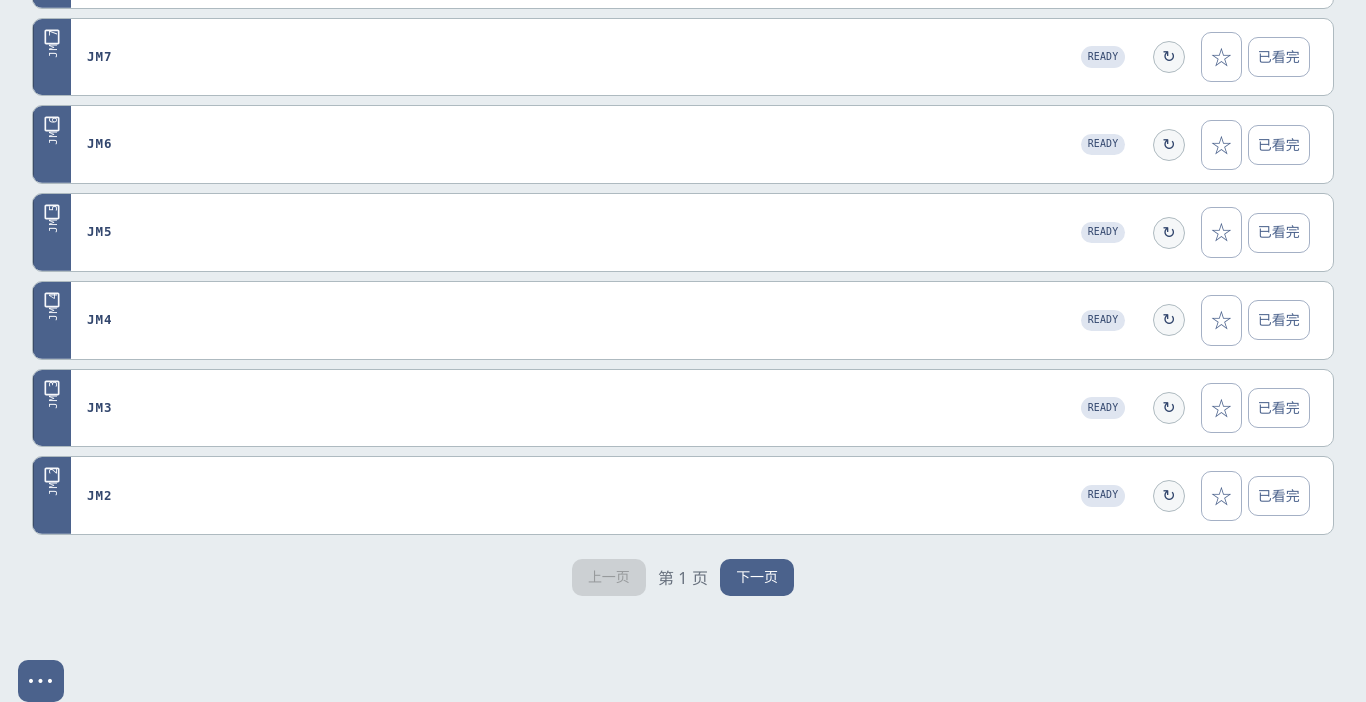
personal status and floating menu › returns to the last valid page and resets pagination when changing filters
(page scrolled)
Click the button "下一页" at (757, 578), box [720,559,794,596]
(page scrolled)
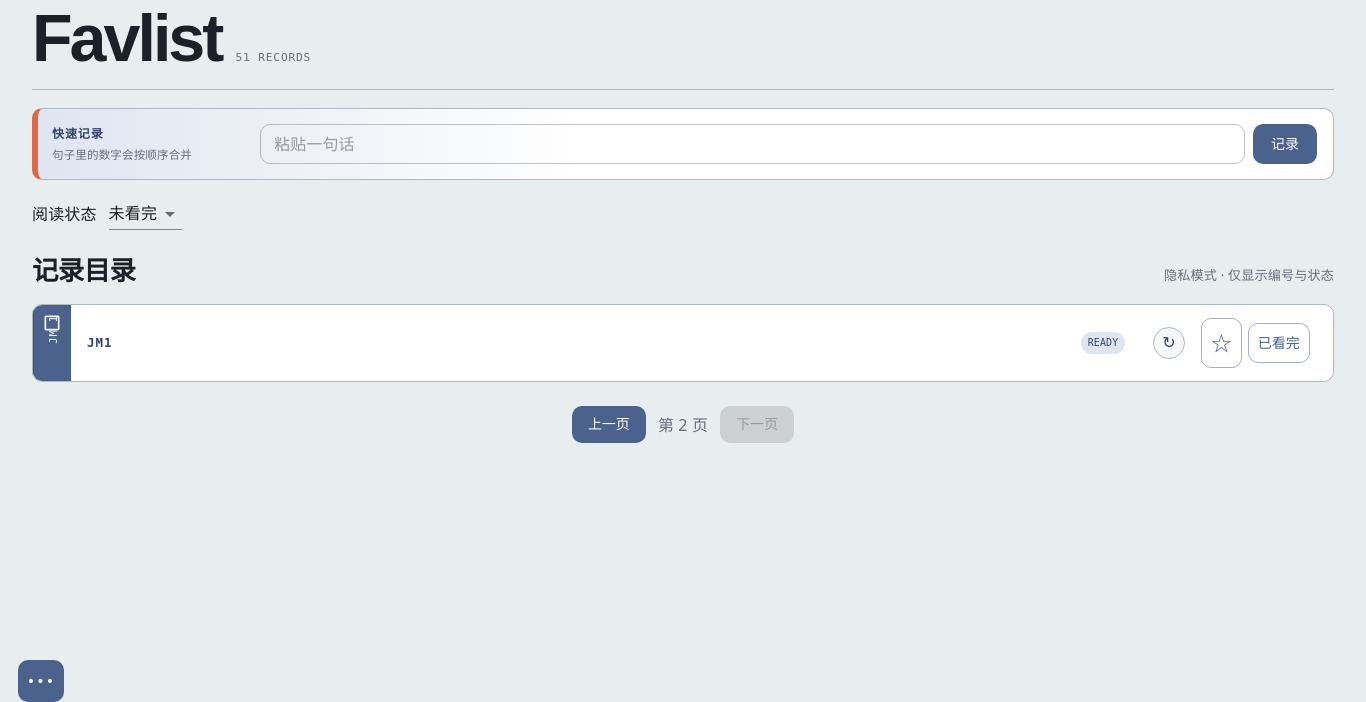
Click the button with aria-label "已看完 JM1" at (1279, 343), box [1248,323,1310,363]
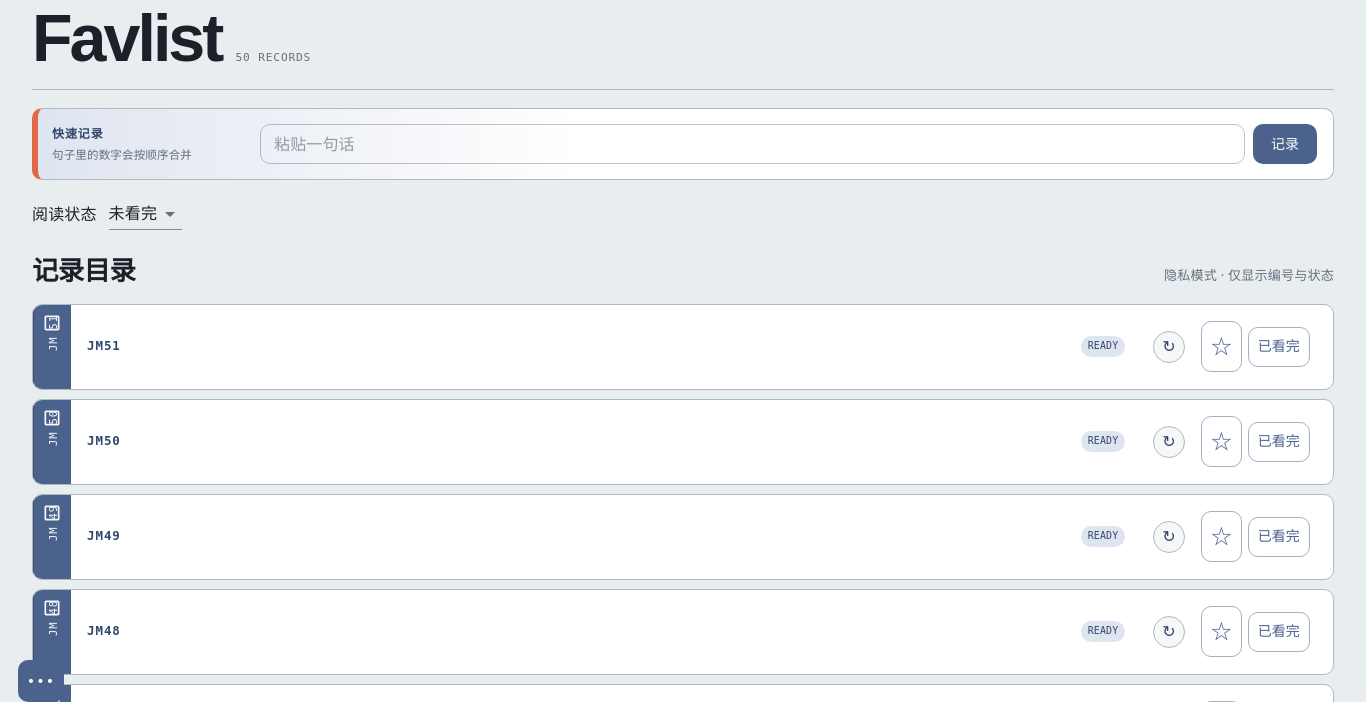
Check: the text "JM51" is shown, box [87,338,121,353]
Select "已看完" in the dropdown labelled "阅读状态" at (145, 214), box [109,198,182,230]
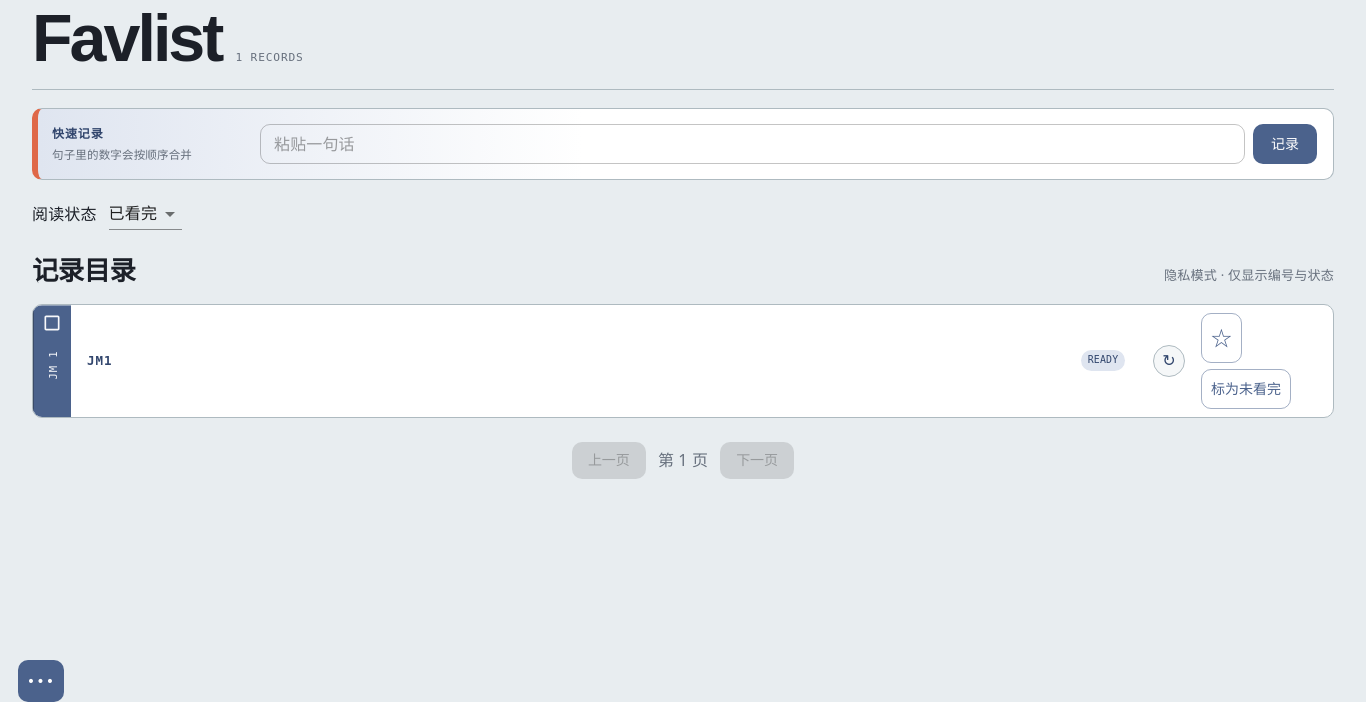
Check: the text "第 1 页" is shown, box [658,448,708,472]
Check: the button with aria-label "标为未看完 JM1" is shown, box [1201,369,1291,409]
